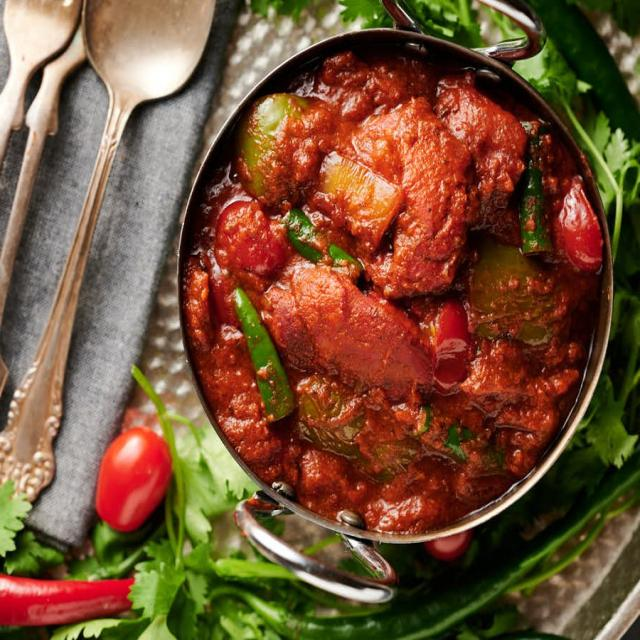Chicken Tikka: (182, 41, 602, 533)
